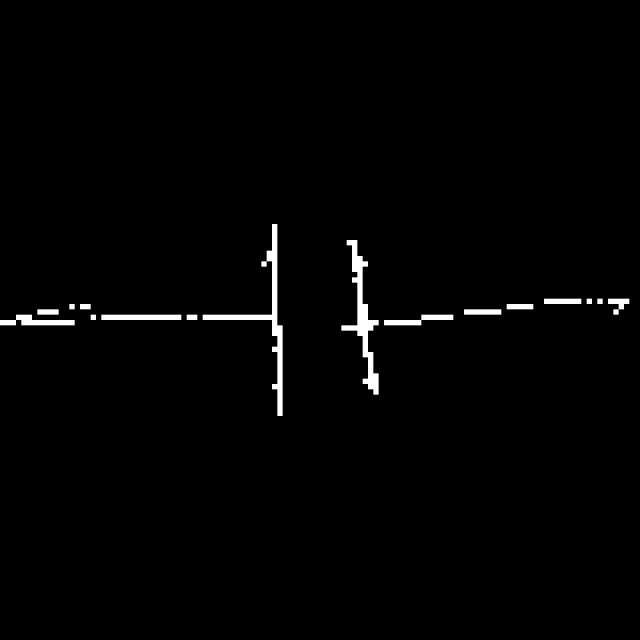capacitor: (252, 210, 396, 408)
